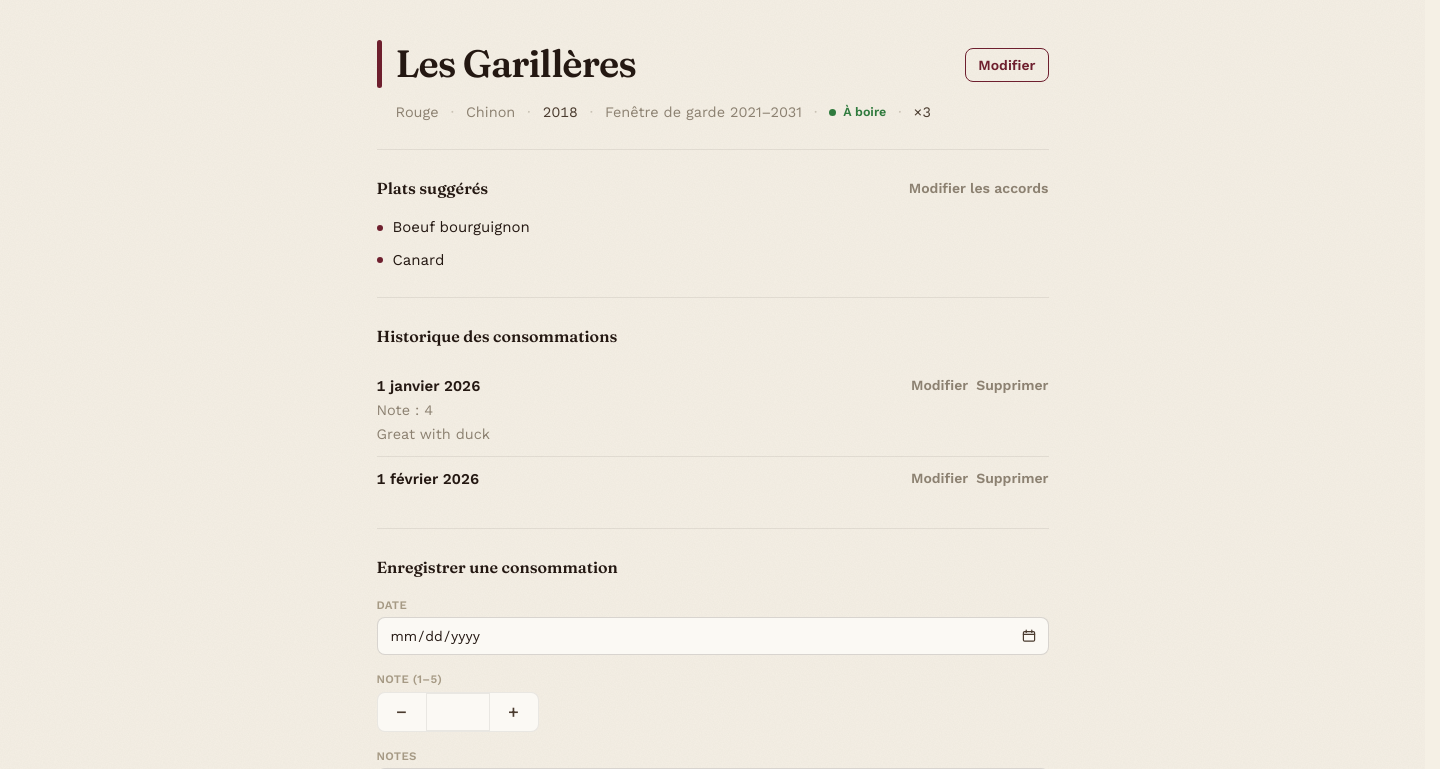
Test: WineDetailView › shows French quantity text
The image size is (1440, 769).
Click the button with test id "quantity-adjustment-trigger" at (922, 112), box [910, 98, 935, 127]
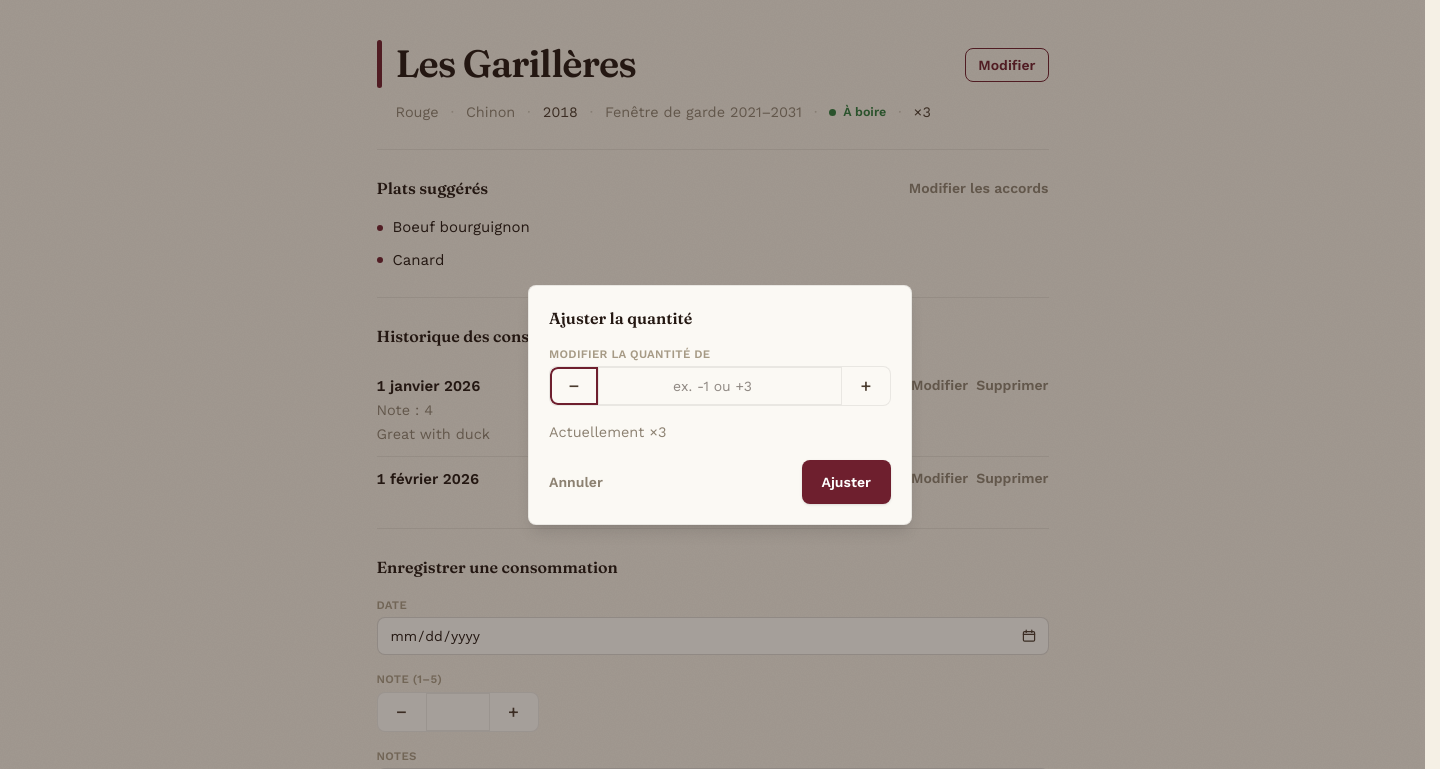
Type "2" into the number field with test id "quantity-adjustment-delta-input" at (720, 386), box [598, 367, 842, 405]
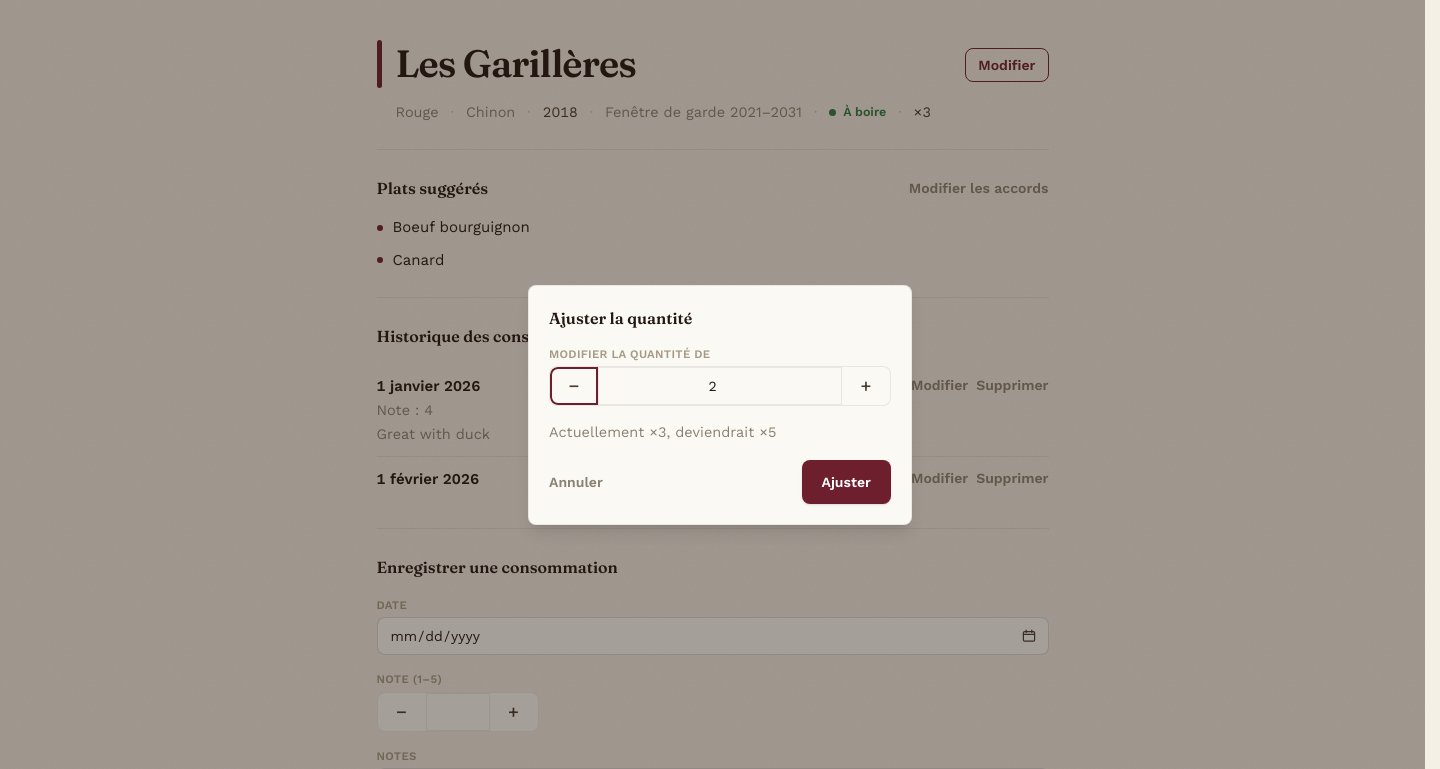
Expected: the text with test id "quantity-adjustment-preview" reads "Actuellement ×3, deviendrait ×5", [549, 424, 776, 441]
